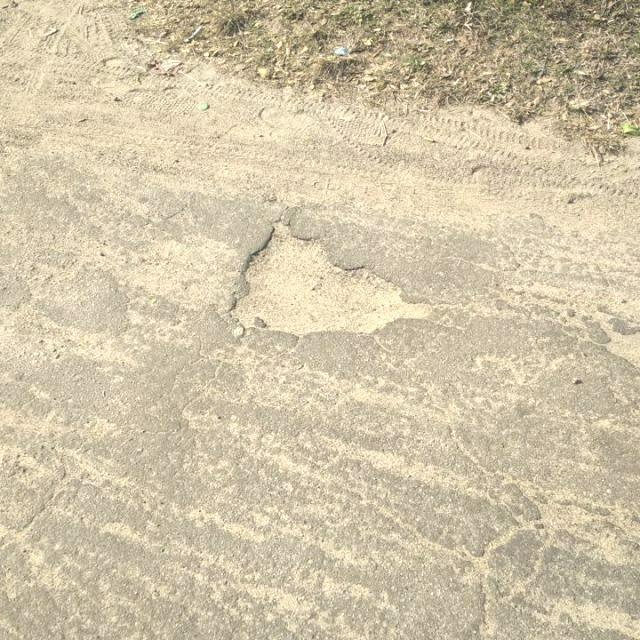Pothole: (226, 213, 436, 341)
